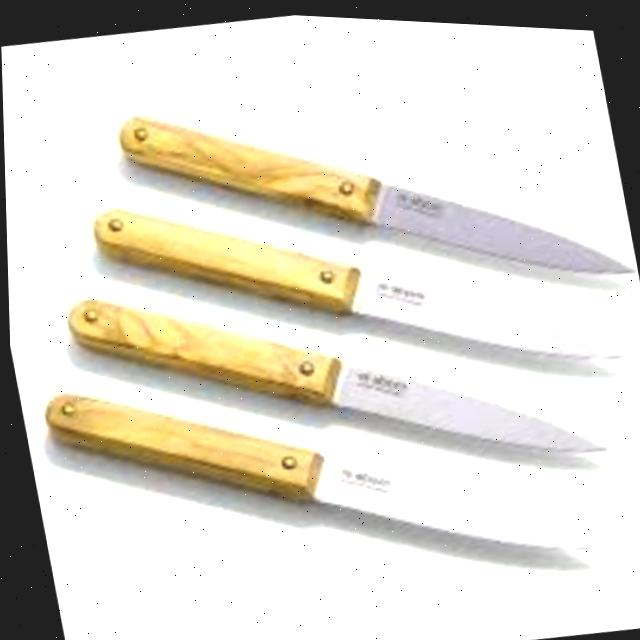Knife: (36, 310, 599, 624), (60, 217, 613, 527), (86, 129, 626, 431), (113, 38, 639, 342)
